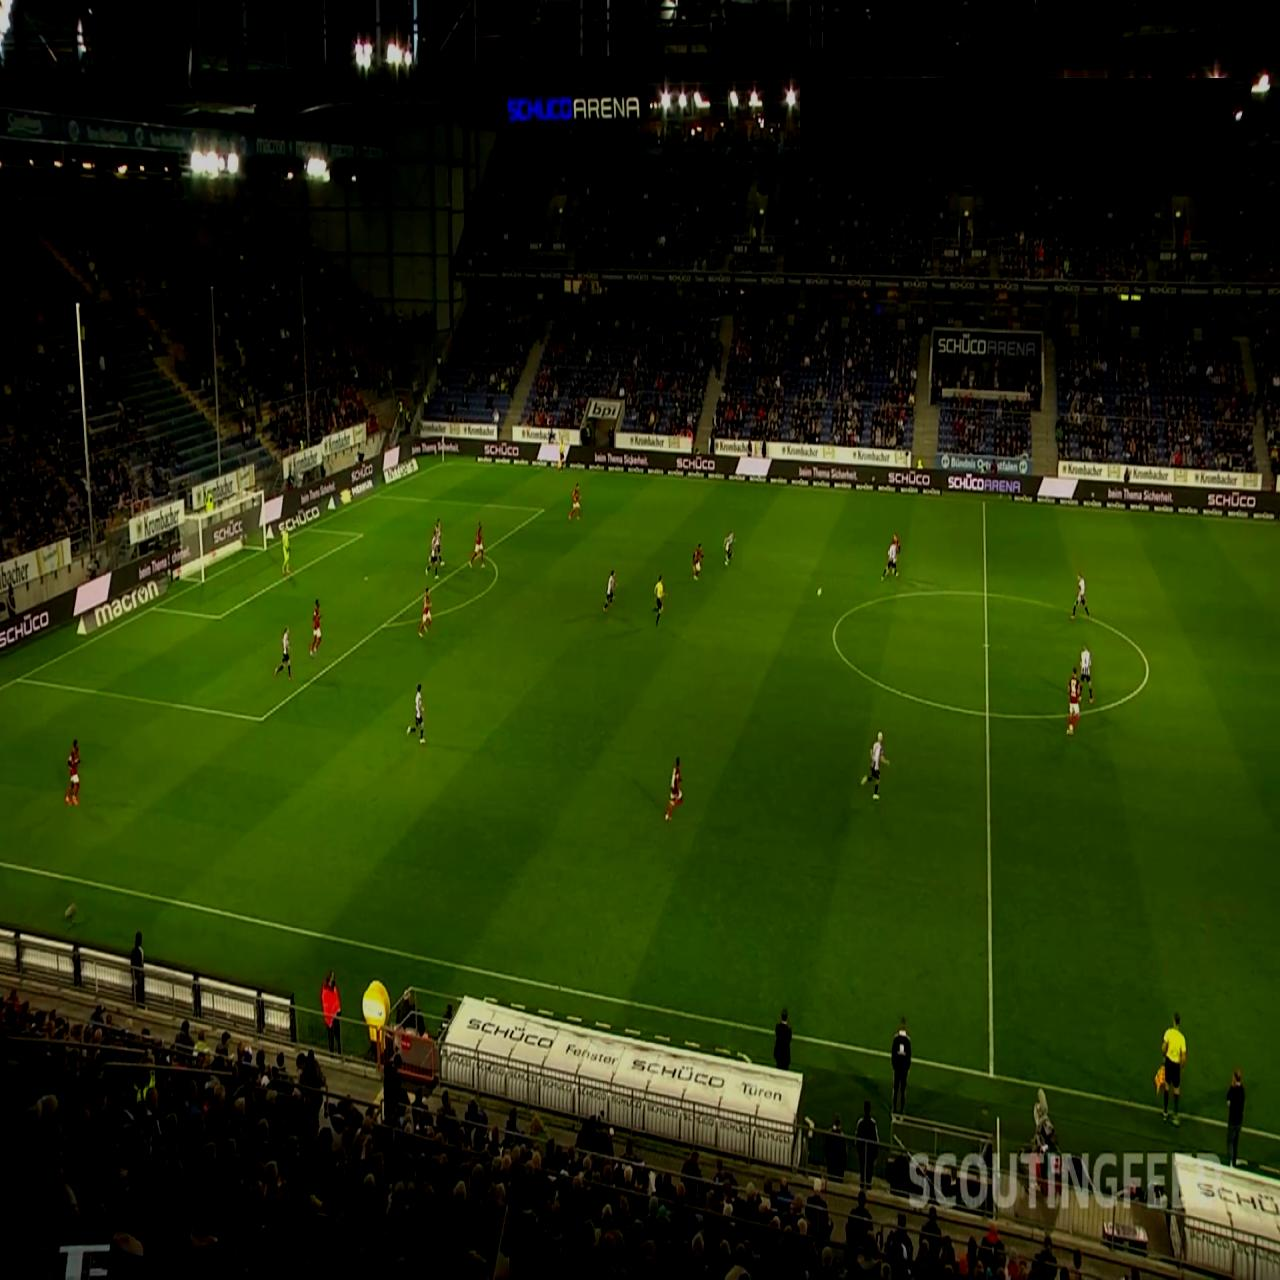ball: (816, 585, 823, 598)
goalkeeper: (280, 527, 292, 575)
player: (862, 730, 891, 801), (665, 756, 683, 823), (407, 683, 426, 745), (274, 626, 294, 681), (65, 738, 81, 806), (1067, 666, 1081, 736), (1070, 570, 1090, 619), (1079, 644, 1093, 705), (469, 520, 486, 570), (309, 598, 322, 656), (418, 586, 433, 636), (425, 529, 438, 583), (881, 540, 898, 580), (654, 572, 666, 627), (433, 516, 445, 571), (603, 569, 617, 610), (567, 484, 582, 522), (889, 530, 900, 574), (692, 542, 703, 580), (724, 532, 736, 565)
referee: (1155, 1011, 1187, 1128), (557, 433, 566, 474)
